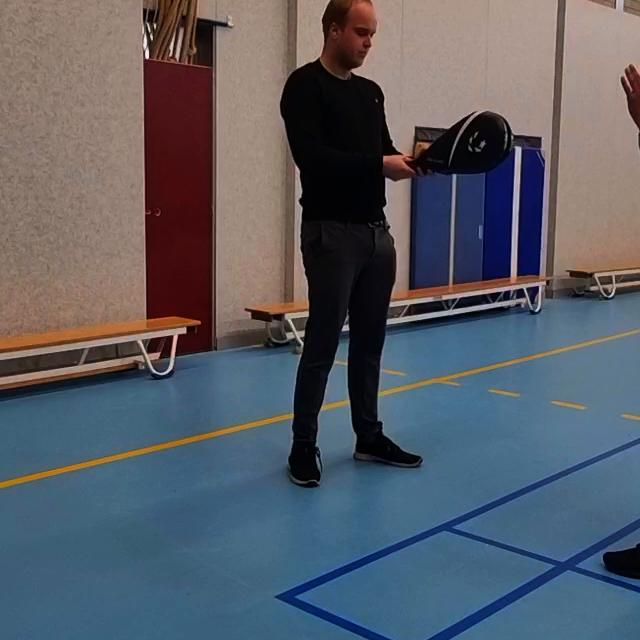paddle: (404, 108, 521, 178)
